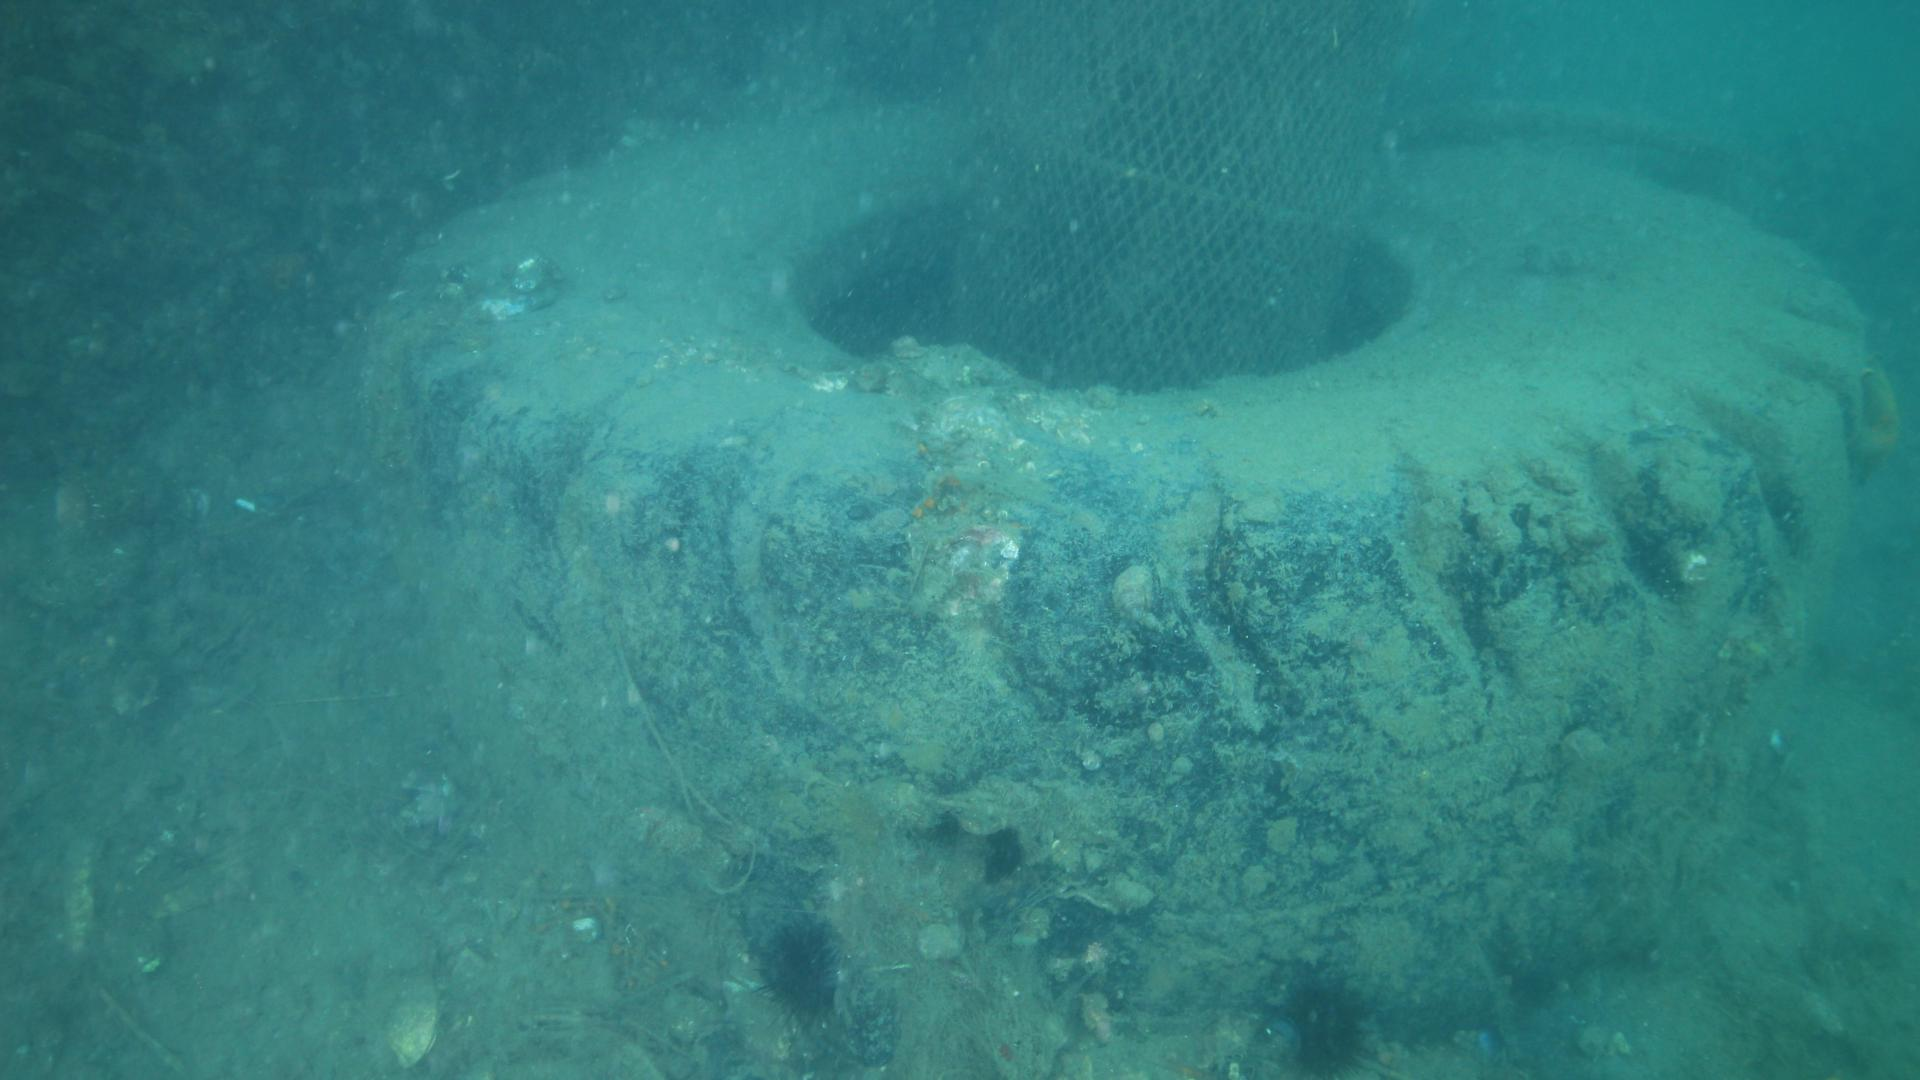spring fish trap: (944, 0, 1411, 392)
tire: (349, 90, 1873, 1011)
